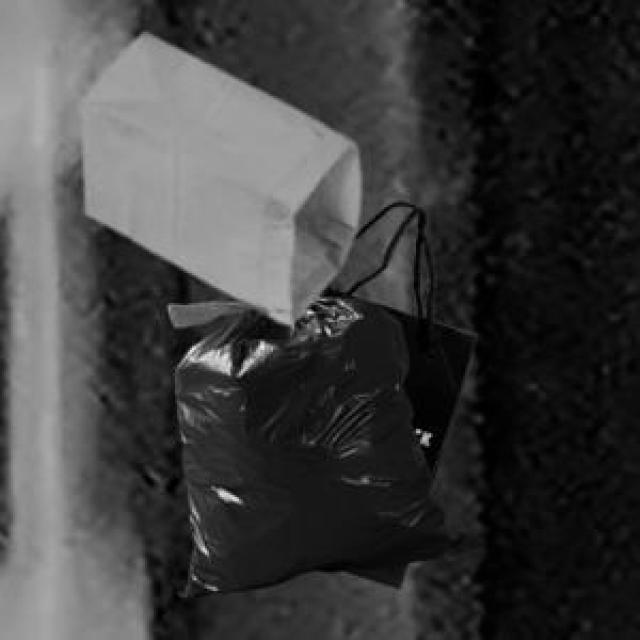miscellaneous trash: (164, 290, 480, 593)
paper: (77, 30, 356, 320), (316, 196, 472, 585)
